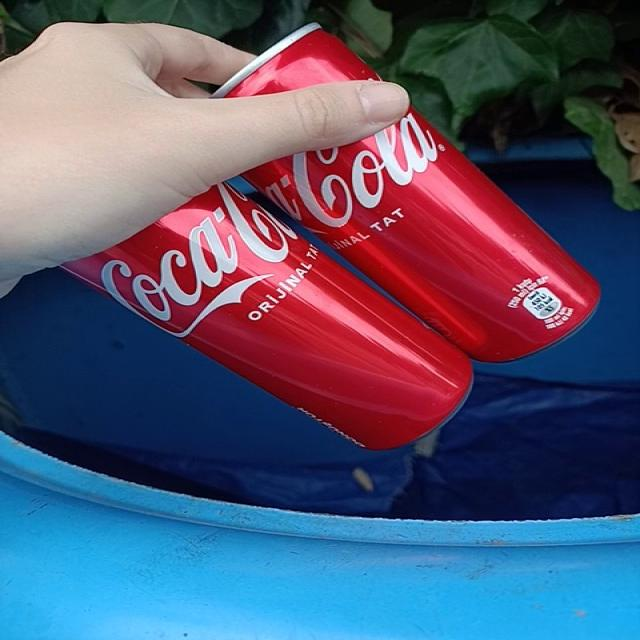bin: (1, 139, 640, 640)
metal: (63, 185, 471, 450), (247, 111, 600, 362), (215, 23, 379, 98)
